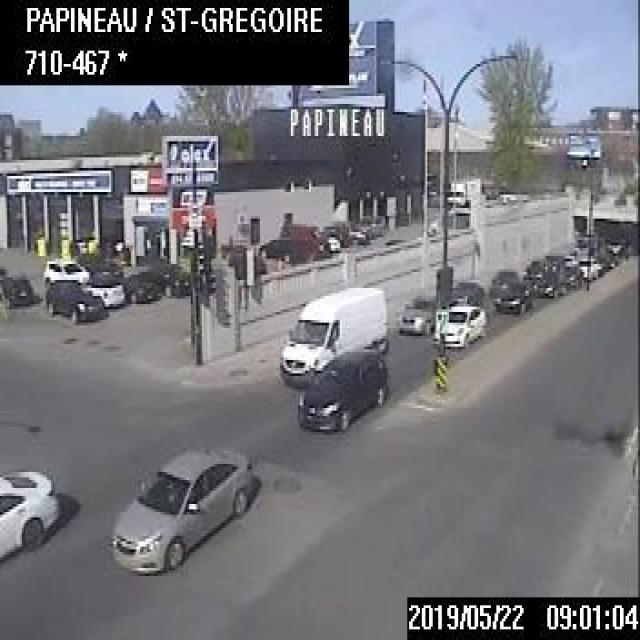vehicle: (109, 446, 254, 573), (278, 282, 387, 384), (296, 353, 386, 432), (0, 461, 58, 563), (45, 278, 110, 324), (433, 301, 485, 348), (398, 293, 439, 334), (494, 277, 534, 315), (120, 269, 162, 305), (284, 222, 327, 256), (82, 273, 124, 307), (1, 272, 38, 310), (36, 257, 88, 284), (150, 261, 188, 297), (79, 253, 123, 281), (532, 267, 572, 296), (447, 176, 479, 205), (449, 278, 484, 304), (486, 267, 516, 295), (259, 237, 294, 260), (520, 258, 545, 278), (563, 263, 583, 287), (578, 256, 596, 278), (322, 233, 338, 251), (542, 254, 562, 268), (562, 253, 576, 265)
